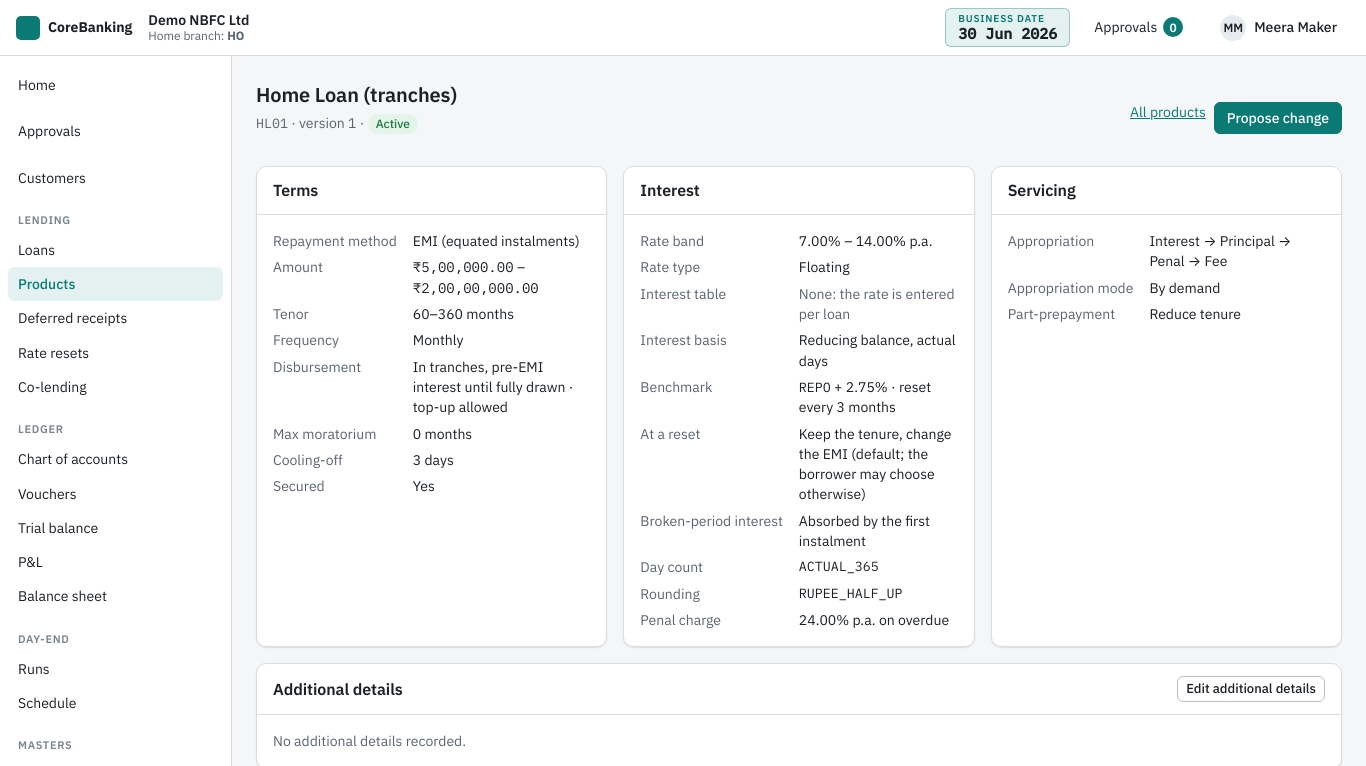
Test case: products: templates, new options and preview › shows floating, tranche and top-up options on the product page and the form
The image size is (1366, 766).
Check: the heading "Home Loan (tranches)" is shown, box [256,80,457,109]
Check: the text with test id "product-disbursement" reads "In tranches, pre-EMI interest until fully drawn · top-up allowed", box [413,357,590,418]
Click the button "Propose change".
click(1278, 118)  # box [1214,102,1342,134]
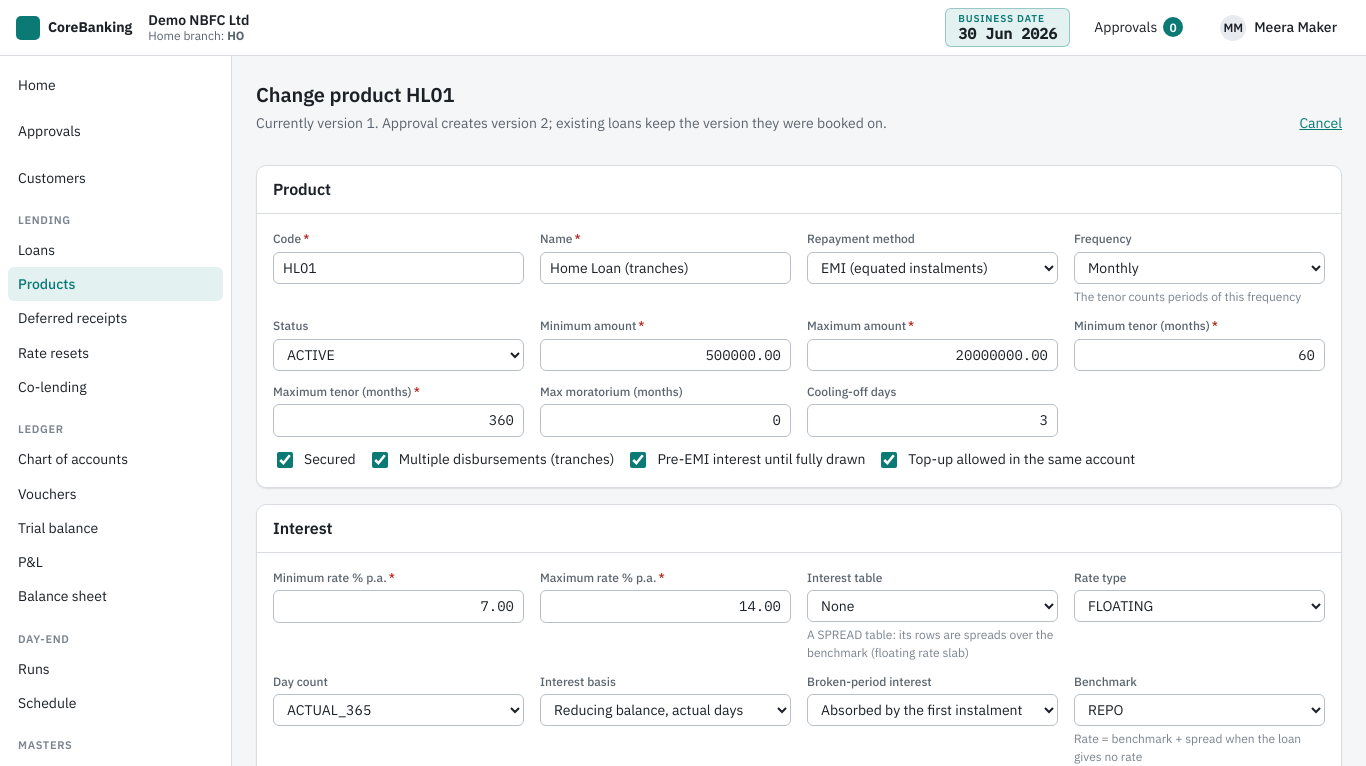
Check: the dropdown labelled "Benchmark" shows "REPO", box [1074,694,1325,726]
Check: the checkbox labelled "Multiple disbursements (tranches)" is checked, box [372,452,388,468]
Check: the checkbox labelled "Pre-EMI interest until fully drawn" is checked, box [630,452,646,468]
Select "Flat rate" in the dropdown labelled "Interest basis" at (666, 710), box [540,694,791,726]
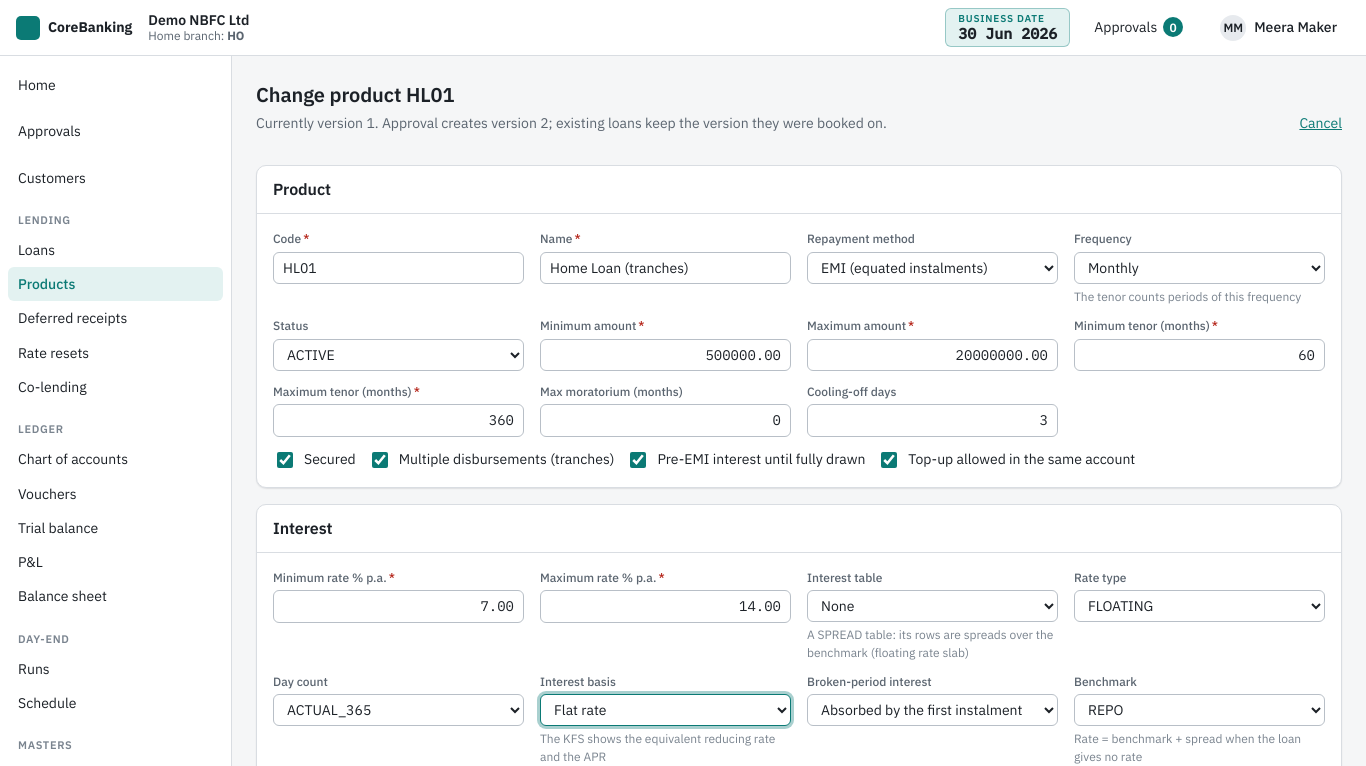
Select "Fixed principal" in the dropdown labelled "Repayment method" at (932, 268), box [807,252,1058,284]
(page scrolled)
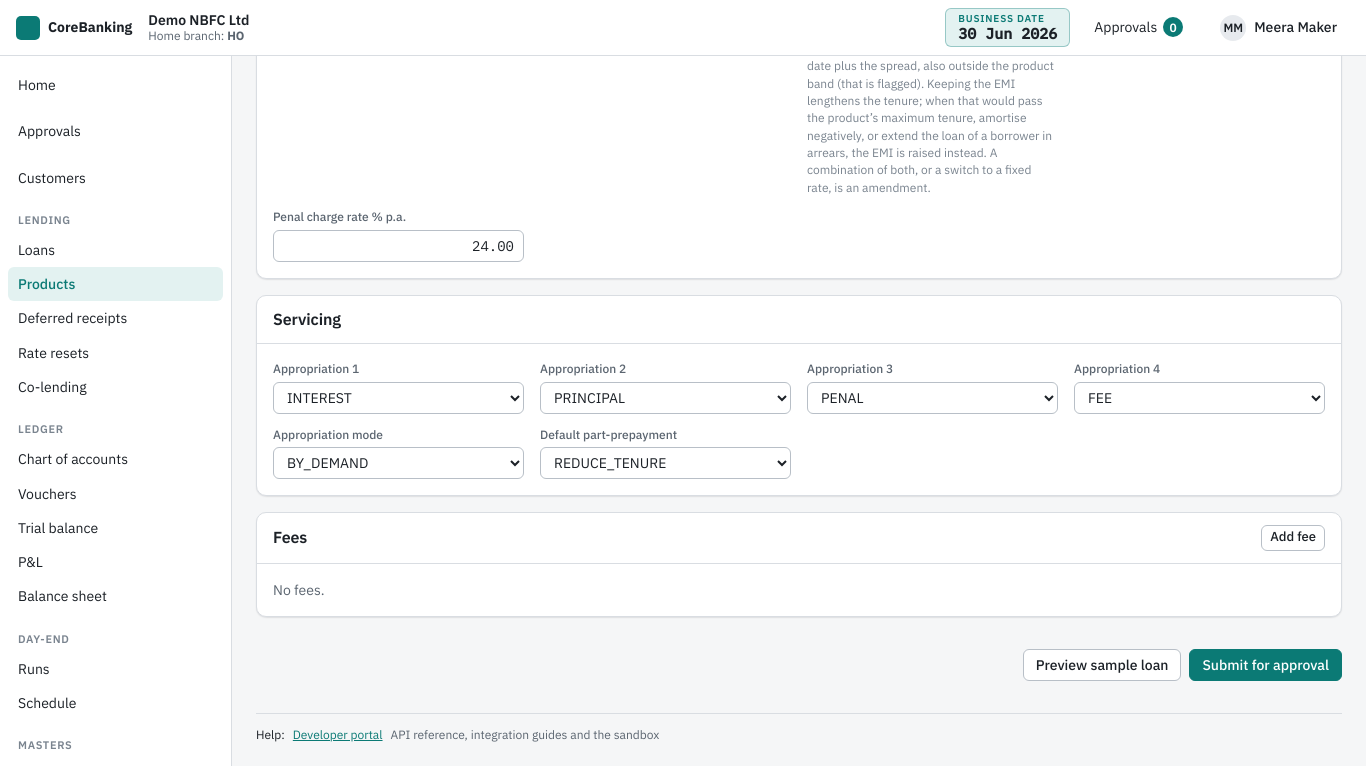
Click the button "Submit for approval".
click(1266, 665)  # box [1190,649,1342,681]
(page scrolled)
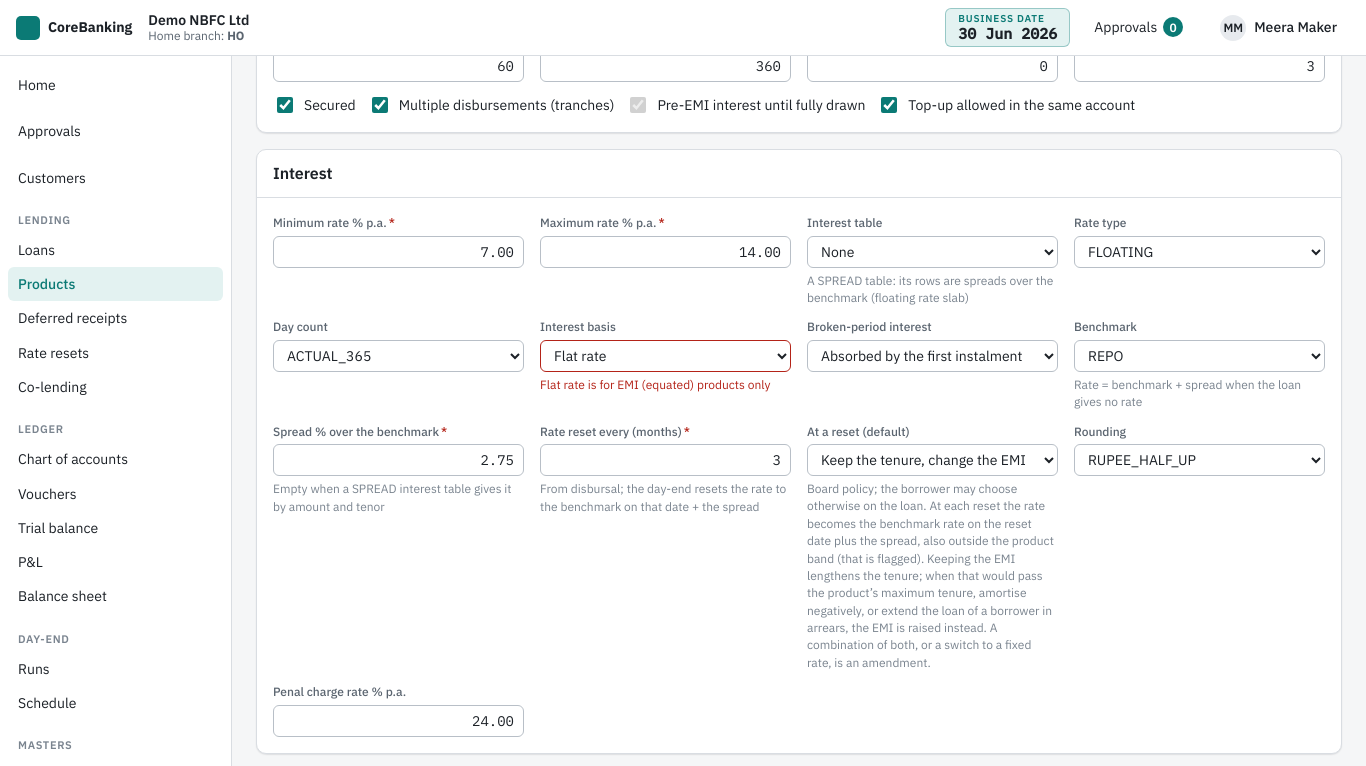
Check: the text "Flat rate is for EMI (equated) products only" is shown, box [540,376,791,393]
